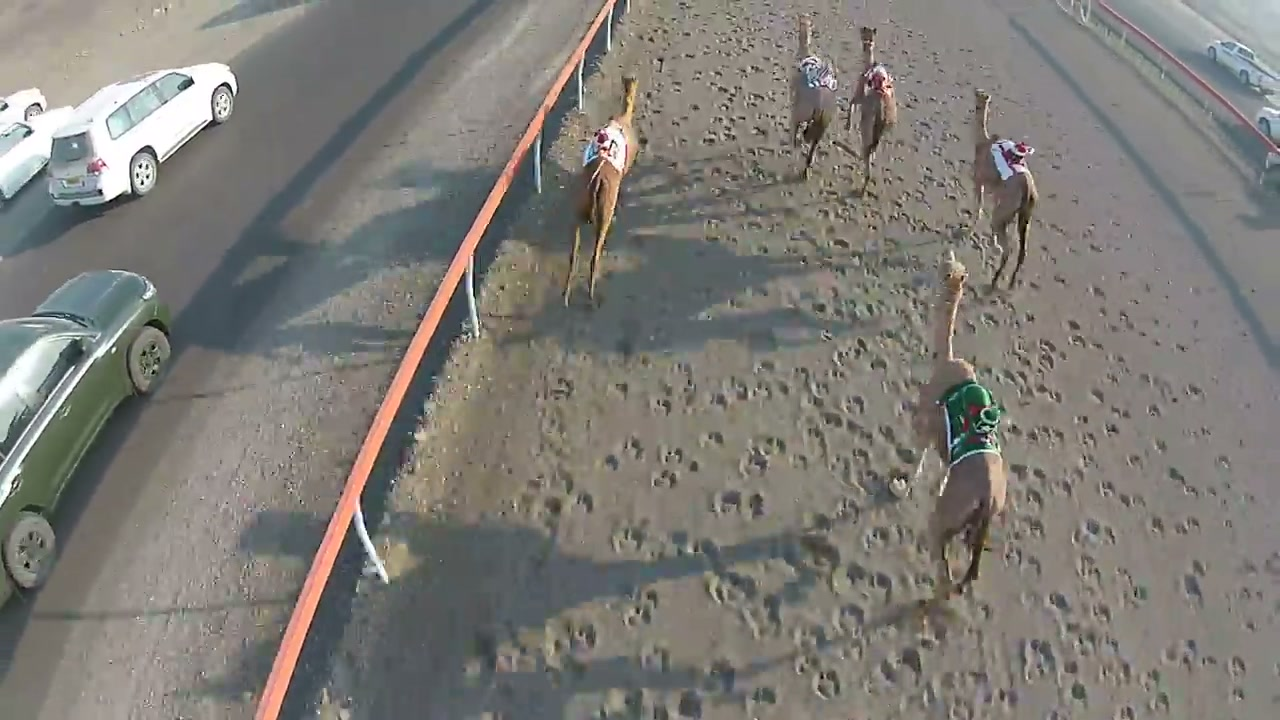animal_foot_print: (356, 0, 1279, 719), (710, 489, 765, 518), (624, 587, 659, 626)
